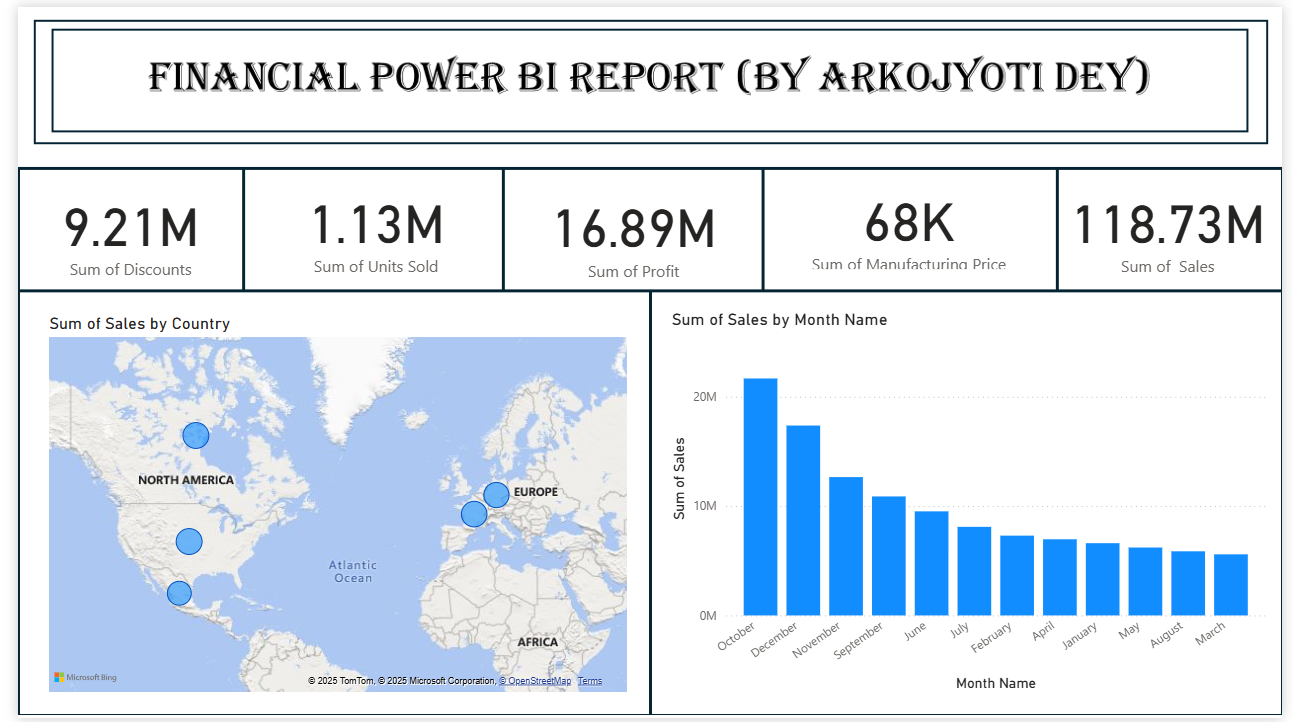

The page's visual inventory and layout, read from the dashboard file:
{"tool":"powerbi","page":{"name":"MONTHLY AND CONTRY WISE ANALYSIS","canvas":[1280,720],"ordinal":0},"visuals":[{"type":"map","fields":{"Category":["Sheet1.Country"],"Size":["Sum(Sheet1. Sales)"]},"box":[26.2,309.8,595.1,388.5],"z":0},{"type":"clusteredColumnChart","fields":{"Category":["Sheet1.Month Name"],"Y":["Sum(Sheet1. Sales)"]},"box":[657.4,306.6,611.5,391.8],"z":1},{"type":"card","fields":{"Values":["Sum(Sheet1. Sales)"]},"box":[1059,167.2,209.8,113.1],"z":2},{"type":"card","fields":{"Values":["Sum(Sheet1.Units Sold)"]},"box":[247.5,170.5,229.5,106.6],"z":3},{"type":"card","fields":{"Values":["Sum(Sheet1.Profit)"]},"box":[511.5,173.8,224.6,109.8],"z":4},{"type":"card","fields":{"Values":["Sum(Sheet1.Manufacturing Price)"]},"box":[783.6,173.8,237.7,96.7],"z":5},{"type":"card","fields":{"Values":["Sum(Sheet1.Discounts)"]},"box":[26.2,177,175.4,100],"z":6}]}

Visuals, with their boxes in screenshot pixels (x1, y1, x2, y2), scaled from the page's 1280x720 canvas onto the 1293x722 screenshot:
map - Sheet1.Country x Sum(Sheet1. Sales): <box>26,311,628,700</box>
clusteredColumnChart - Sheet1.Month Name x Sum(Sheet1. Sales): <box>664,307,1282,700</box>
card - Sum(Sheet1. Sales): <box>1070,168,1282,281</box>
card - Sum(Sheet1.Units Sold): <box>250,171,482,278</box>
card - Sum(Sheet1.Profit): <box>517,174,744,284</box>
card - Sum(Sheet1.Manufacturing Price): <box>792,174,1032,271</box>
card - Sum(Sheet1.Discounts): <box>26,177,204,278</box>
